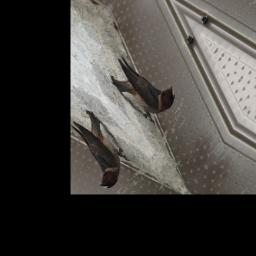Swallow: (104, 40, 179, 132)
